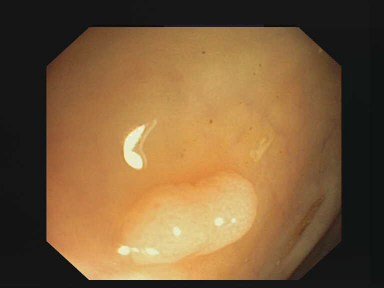polyp: (122, 172, 259, 263)
